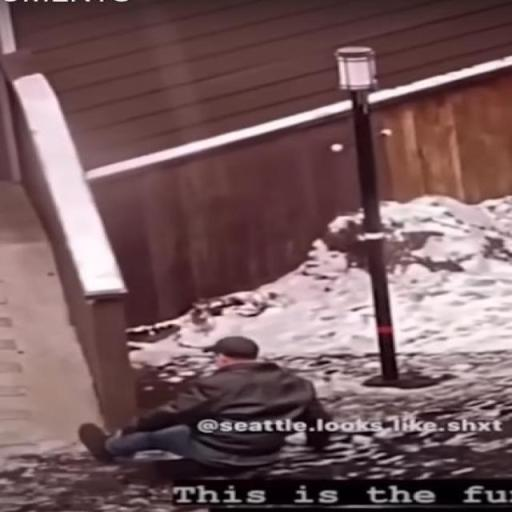Fall: (77, 333, 336, 476)
